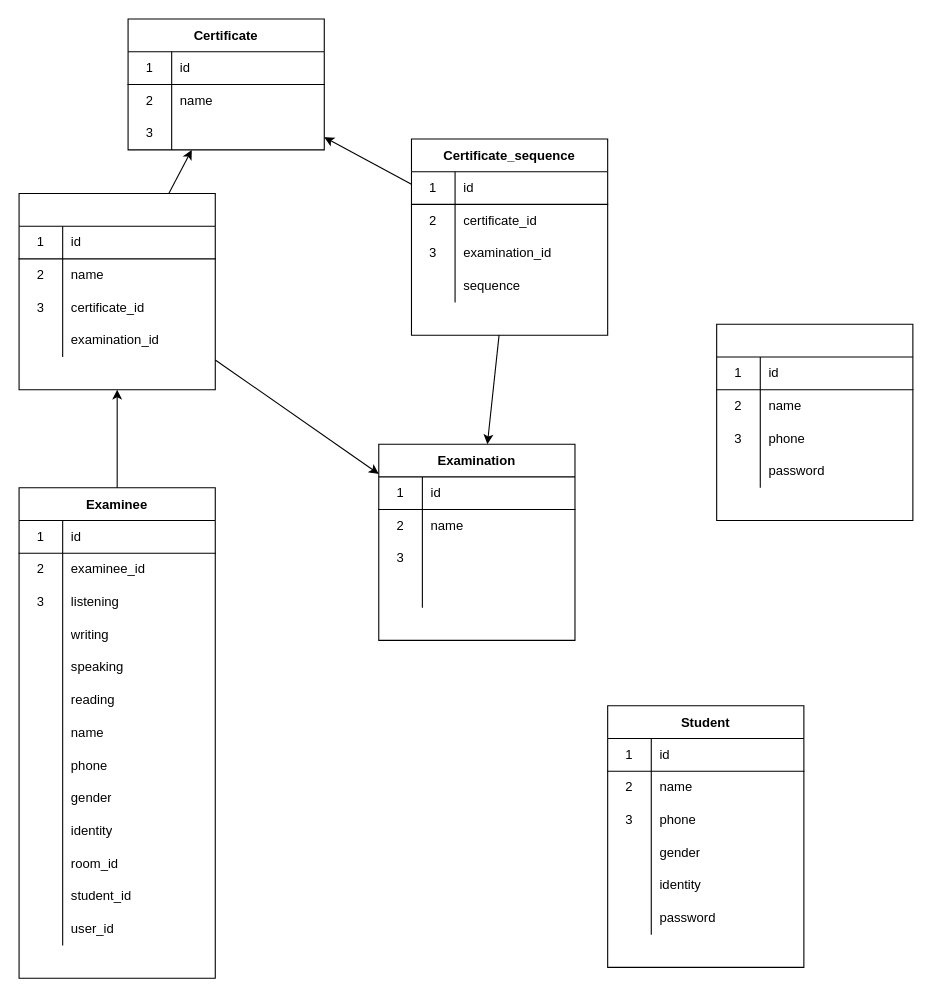
Some shapes in this 932 by 997 pixel diagram are drawn without their labels. The shapes that lost their labels are listed below. From the top down, each one's box as (x1, y1, x2, y2) in pixels, then its label:
(18, 192, 215, 390): Room
(716, 323, 913, 520): User
